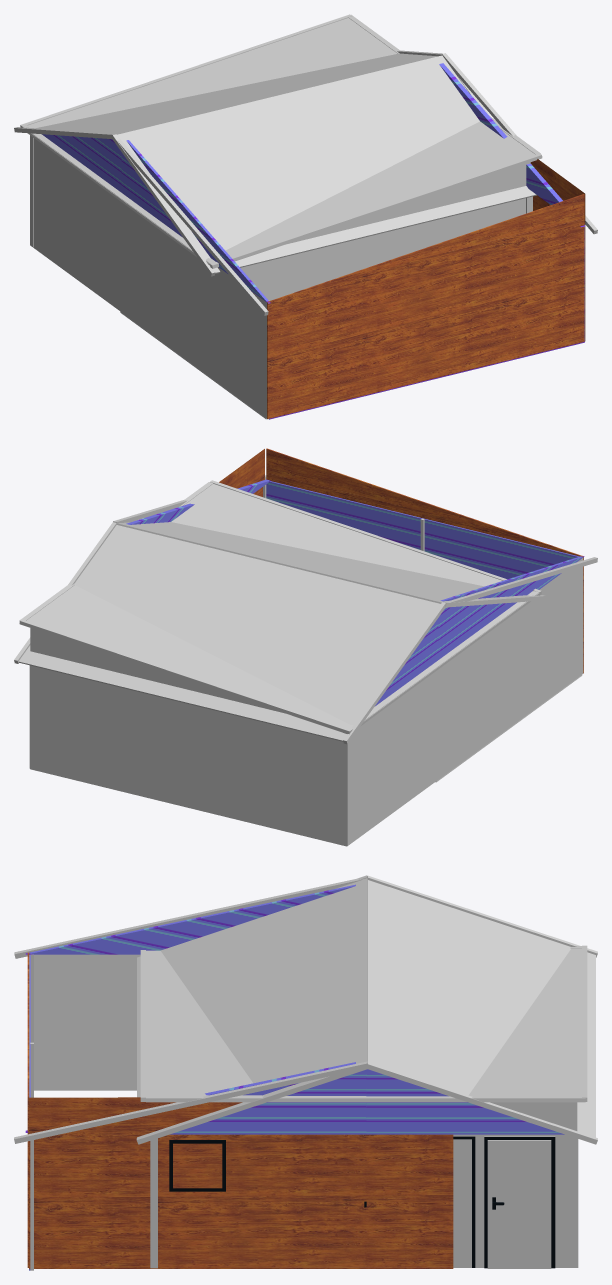
Rendered from garaz.glb.
3 renders of one model, top to bottom at view 1: azimuth 30°, elevation 25°; view 2: azimuth 150°, elevation 25°; view 3: azimuth 270°, elevation 25°, orthographic. The views are drawn at different scales.
Visible parts, largest first — view 1: wiata-spad-bok, dach-lewy, calosc, spadtyl, bryla, wiata-spad-tyl, dach-prawy, dach -tyl-wiata, dach-tyl, obrobka-spad-lewo, dach -przod-wiata, dach-obrobka-wiata.001 (+7 smaller); view 2: dach-prawy, calosc, wiata-spad-tyl, spadtyl, bryla, wiata-sciana-dlugi, dach-lewy, wiata-spad-bok, dach -tyl-wiata, obrobka-spad-prawo, dach-tyl, obrobka-spad-tyl (+9 smaller); view 3: wiata-spad-przod, dach-prawy, dach-lewy, spadtyl, wiata-sciana-krotka, dach-przod, drzwi, dach -tyl-wiata, calosc, bryla, obrobka-spad-przod, dach-obrobka-wiata (+15 smaller).
Part boxes in pixels (left/top/right/bottom): wiata-spad-bok: left=267, top=194, right=584, bottom=418; dach-lewy: left=117, top=55, right=536, bottom=273; calosc: left=33, top=138, right=525, bottom=379; spadtyl: left=21, top=18, right=535, bottom=265; bryla: left=34, top=138, right=530, bottom=378; wiata-spad-tyl: left=84, top=175, right=266, bottom=418; dach-prawy: left=36, top=53, right=437, bottom=134; dach -tyl-wiata: left=121, top=140, right=270, bottom=303; dach-tyl: left=42, top=134, right=121, bottom=192; obrobka-spad-lewo: left=210, top=153, right=542, bottom=268; dach -przod-wiata: left=439, top=63, right=584, bottom=227; dach-obrobka-wiata.001: left=117, top=137, right=268, bottom=315; dach-prawy: left=18, top=525, right=440, bottom=741; calosc: left=30, top=641, right=528, bottom=846; wiata-spad-tyl: left=400, top=558, right=583, bottom=806; spadtyl: left=27, top=484, right=539, bottom=732; bryla: left=30, top=617, right=529, bottom=843; wiata-sciana-dlugi: left=266, top=481, right=579, bottom=579; dach-lewy: left=116, top=522, right=529, bottom=603; wiata-spad-bok: left=266, top=448, right=583, bottom=673; dach -tyl-wiata: left=438, top=556, right=584, bottom=659; obrobka-spad-prawo: left=19, top=619, right=351, bottom=734; dach-tyl: left=375, top=618, right=438, bottom=706; obrobka-spad-tyl: left=347, top=591, right=538, bottom=729; wiata-spad-przod: left=29, top=1097, right=453, bottom=1268; dach-prawy: left=368, top=880, right=595, bottom=1137; dach-lewy: left=137, top=878, right=367, bottom=1137; spadtyl: left=146, top=948, right=581, bottom=1095; wiata-sciana-krotka: left=34, top=954, right=140, bottom=1090; dach-przod: left=170, top=1069, right=564, bottom=1134; drzwi: left=484, top=1136, right=554, bottom=1268; dach -tyl-wiata: left=25, top=884, right=355, bottom=954; calosc: left=453, top=1134, right=578, bottom=1267; bryla: left=453, top=1102, right=577, bottom=1267; obrobka-spad-przod: left=146, top=1096, right=585, bottom=1102; dach-obrobka-wiata: left=14, top=1061, right=368, bottom=1143.
Bounding box in the file's own units: 6.31 × 3.28 × 8.24.
6 materials, 2 textured.
